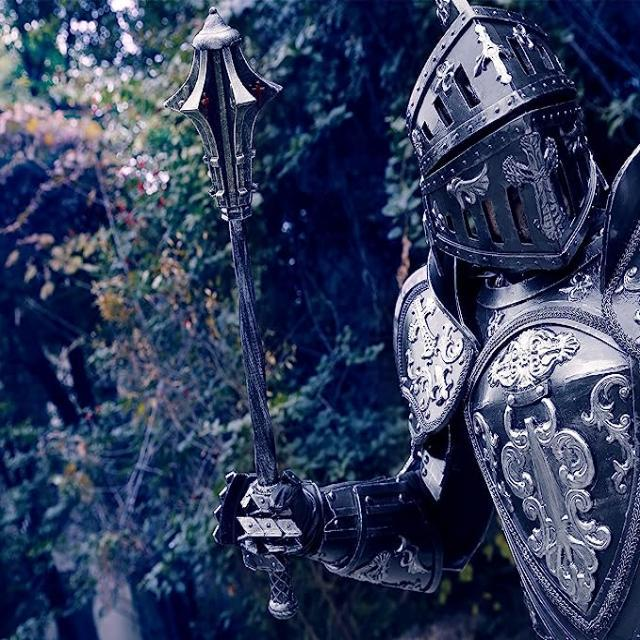mace: (162, 5, 303, 615)
